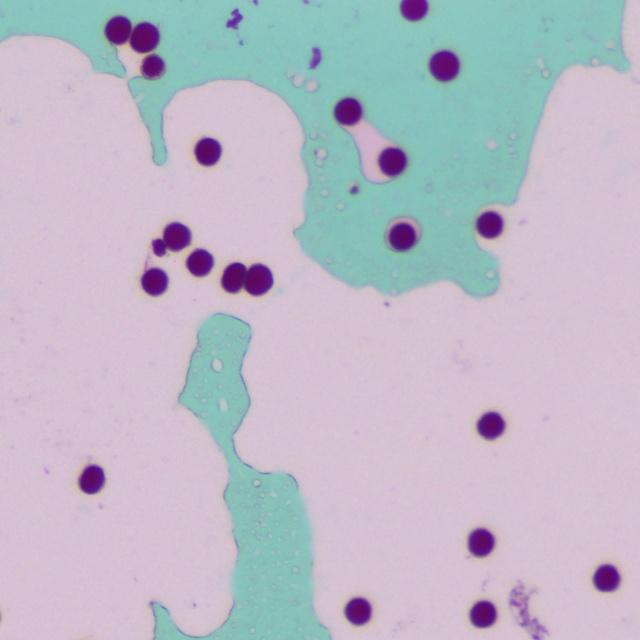viable: (429, 50, 459, 81), (387, 221, 418, 251), (244, 263, 273, 295), (130, 22, 159, 52), (334, 97, 362, 125), (379, 147, 406, 176), (163, 222, 190, 250), (104, 16, 131, 44), (186, 249, 213, 276), (593, 564, 620, 591), (469, 600, 496, 627), (78, 465, 104, 493), (195, 137, 221, 165), (141, 267, 167, 295), (468, 528, 494, 556), (221, 262, 245, 292), (345, 597, 371, 624), (478, 412, 504, 439), (476, 211, 502, 238), (141, 54, 165, 78), (400, 0, 426, 20)
